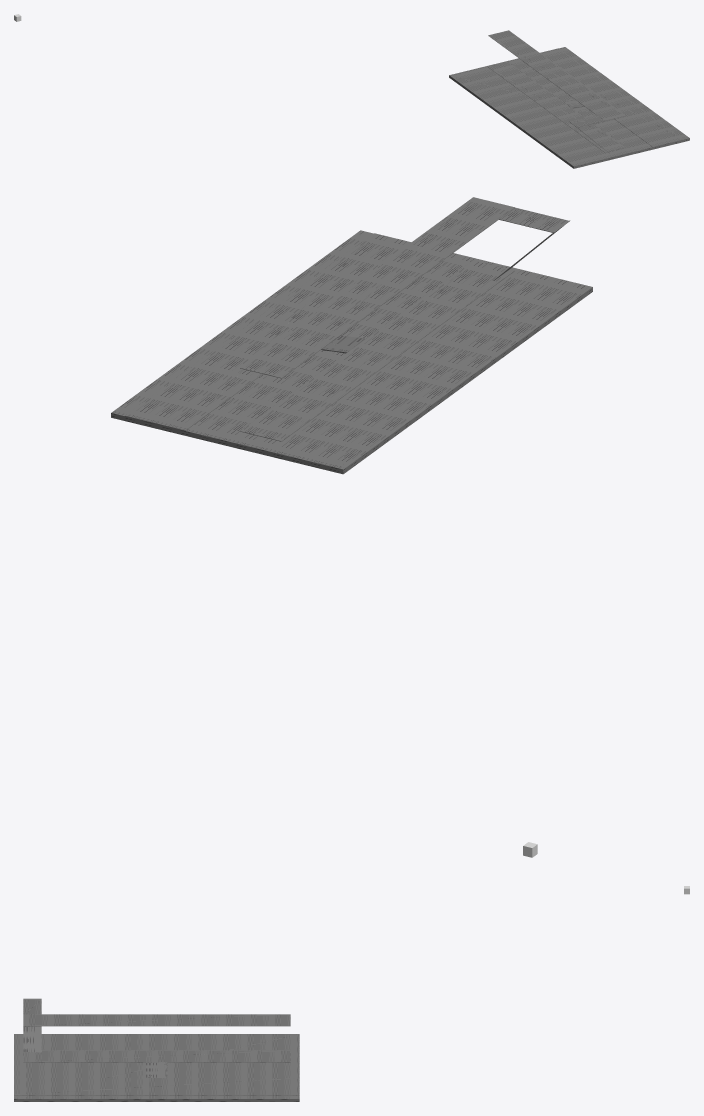
The model's file is Environment.glb.
The picture shows the model from 3 angles, top to bottom: view 1: azimuth 30°, elevation 25°; view 2: azimuth 150°, elevation 25°; view 3: azimuth 270°, elevation 25°; orthographic projection. The views are drawn at different scales.
Parts seen in each view (by area): view 1: Environment; view 2: Environment; view 3: Environment.
Part boxes in pixels (x1,y1,x2,y2): Environment: [449, 30, 689, 168]; Environment: [111, 197, 592, 474]; Environment: [14, 998, 299, 1101].
Bounding box in the file's own units: 164 × 16.2 × 220.
Materials: 3 (2 with a texture image).
